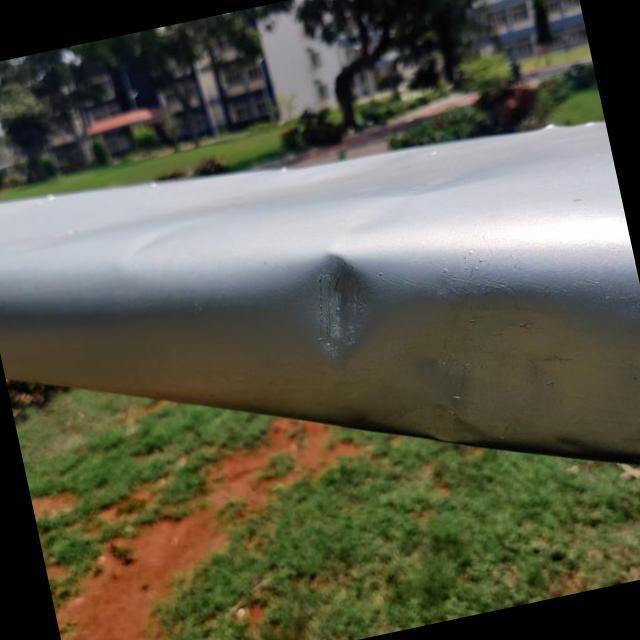dent: (290, 252, 382, 366), (372, 386, 492, 442)
